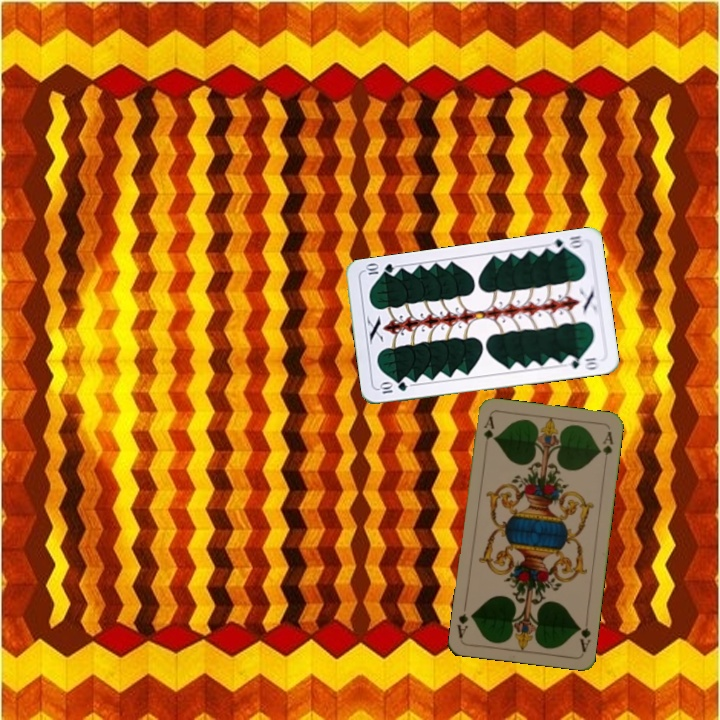G10: (545, 231, 586, 255), (375, 378, 410, 396)
GA: (479, 412, 497, 452), (574, 621, 593, 654)
